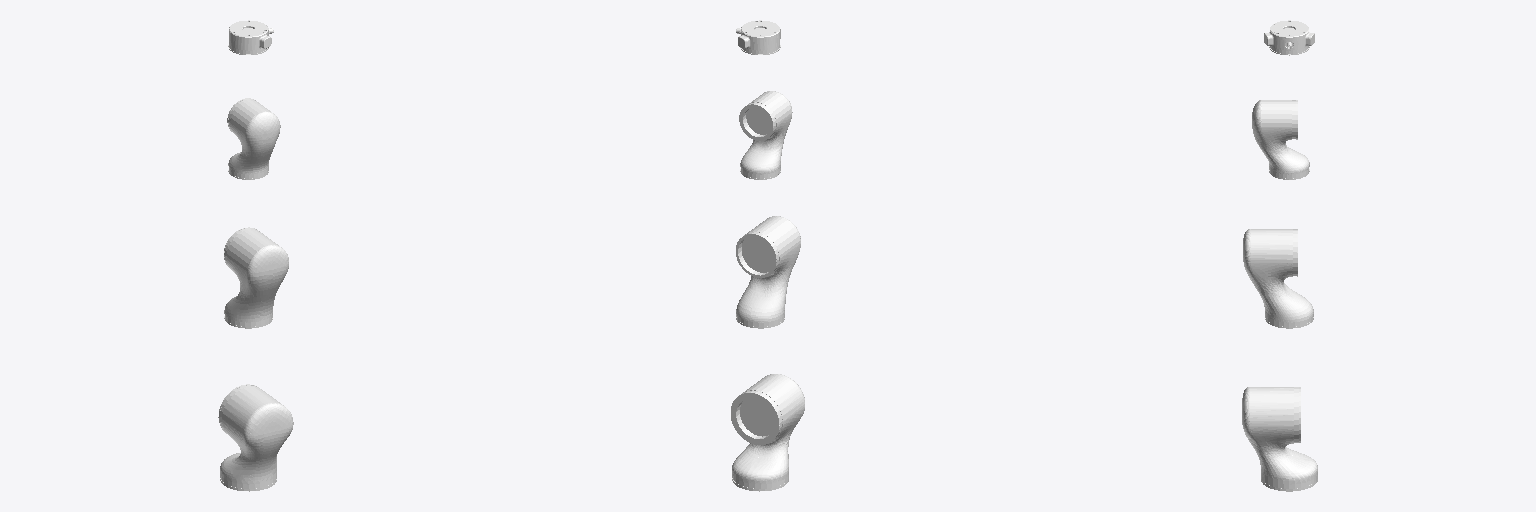
URDF robot description (rm_75_description):
<?xml version="1.0" encoding="utf-8"?>
<robot
  name="rm_75_description">
  <link
    name="base_link">
    <inertial>
      <origin
        xyz="0.000433268851866144 3.54527840972405E-05 0.0599427623574736"
        rpy="0 0 0" />
      <mass
        value="0.841071174772543" />
      <inertia
        ixx="0.00172611149818605"
        ixy="2.52724703312125E-06"
        ixz="3.67689528877993E-05"
        iyy="0.00170987425756066"
        iyz="-1.68009023667311E-06"
        izz="0.000904023916742301" />
    </inertial>
    <visual>
      <origin
        xyz="0 0 0"
        rpy="0 0 0" />
      <geometry>
        <mesh
          filename="package://rm_description/meshes/RM75/base_link.STL" />
      </geometry>
      <material
        name="">
        <color
          rgba="1 1 1 1" />
      </material>
    </visual>
    <collision>
      <origin
        xyz="0 0 0"
        rpy="0 0 0" />
      <geometry>
        <mesh
          filename="package://rm_description/meshes/RM75/base_link.STL" />
      </geometry>
    </collision>
  </link>
  <link
    name="Link1">
    <inertial>
      <origin
        xyz="0.0251854224372461 1.19160585601655E-08 -0.021107996993288"
        rpy="0 0 0" />
      <mass
        value="0.593563458735581" />
      <inertia
        ixx="0.000561352422092522"
        ixy="9.8019294192418E-09"
        ixz="-0.000211217278563478"
        iyy="0.00126614121202124"
        iyz="1.29510293158304E-08"
        izz="0.0011816817861243" />
    </inertial>
    <visual>
      <origin
        xyz="0 0 0"
        rpy="0 0 0" />
      <geometry>
        <mesh
          filename="package://rm_description/meshes/RM75/link1.STL" />
      </geometry>
      <material
        name="">
        <color
          rgba="1 1 1 1" />
      </material>
    </visual>
    <collision>
      <origin
        xyz="0 0 0"
        rpy="0 0 0" />
      <geometry>
        <mesh
          filename="package://rm_description/meshes/RM75/link1.STL" />
      </geometry>
    </collision>
  </link>
  <joint
    name="joint1"
    type="revolute">
    <origin
      xyz="0 0 0.2405"
      rpy="-1.5708 0 0" />
    <parent
      link="base_link" />
    <child
      link="Link1" />
    <axis
      xyz="0 -1 0" />
    <limit
      lower="-3.1"
      upper="3.1"
      effort="60"
      velocity="3.14" />
  </joint>
  <link
    name="Link2">
    <inertial>
      <origin
        xyz="2.72859133252335E-07 0.011077753037361 0.0761295106490881"
        rpy="0 0 0" />
      <mass
        value="0.432849770310974" />
      <inertia
        ixx="0.00125838173873093"
        ixy="5.63146579602116E-09"
        ixz="1.33486683063366E-09"
        iyy="0.00122245448121472"
        iyz="0.000279003475762058"
        izz="0.000317474184276672" />
    </inertial>
    <visual>
      <origin
        xyz="0 0 0"
        rpy="0 0 0" />
      <geometry>
        <mesh
          filename="package://rm_description/meshes/RM75/link2.STL" />
      </geometry>
      <material
        name="">
        <color
          rgba="1 1 1 1" />
      </material>
    </visual>
    <collision>
      <origin
        xyz="0 0 0"
        rpy="0 0 0" />
      <geometry>
        <mesh
          filename="package://rm_description/meshes/RM75/link2.STL" />
      </geometry>
    </collision>
  </link>
  <joint
    name="joint2"
    type="revolute">
    <origin
      xyz="0 0 0"
      rpy="1.5708 0 0" />
    <parent
      link="Link1" />
    <child
      link="Link2" />
    <axis
      xyz="0 1 0" />
    <limit
      lower="-2.268"
      upper="2.268"
      effort="60"
      velocity="3.14" />
  </joint>
  <link
    name="Link3">
    <inertial>
      <origin
        xyz="6.84676164566044E-07 0.0273475408308154 -0.0235440119707943"
        rpy="0 0 0" />
      <mass
        value="0.431325495678459" />
      <inertia
        ixx="0.000794332771462568"
        ixy="1.03353218375171E-08"
        ixz="-2.32798826854953E-09"
        iyy="0.000315065343266245"
        iyz="-0.000142620540462618"
        izz="0.000730371131605455" />
    </inertial>
    <visual>
      <origin
        xyz="0 0 0"
        rpy="0 0 0" />
      <geometry>
        <mesh
          filename="package://rm_description/meshes/RM75/link3.STL" />
      </geometry>
      <material
        name="">
        <color
          rgba="1 1 1 1" />
      </material>
    </visual>
    <collision>
      <origin
        xyz="0 0 0"
        rpy="0 0 0" />
      <geometry>
        <mesh
          filename="package://rm_description/meshes/RM75/link3.STL" />
      </geometry>
    </collision>
  </link>
  <joint
    name="joint3"
    type="revolute">
    <origin
      xyz="0 0 0.256"
      rpy="-1.5708 0 0" />
    <parent
      link="Link2" />
    <child
      link="Link3" />
    <axis
      xyz="0 -1 0" />
    <limit
      lower="-3.1"
      upper="3.1"
      effort="30"
      velocity="3.92" />
  </joint>
  <link
    name="Link4">
    <inertial>
      <origin
        xyz="5.05312670298932E-06 0.0105690692118619 0.0595925663703773"
        rpy="0 0 0" />
      <mass
        value="0.289633681619295" />
      <inertia
        ixx="0.000637371004484591"
        ixy="-3.86643270900744E-08"
        ixz="7.05261290886955E-08"
        iyy="0.000614178164759844"
        iyz="0.000144610359942128"
        izz="0.000156483880946498" />
    </inertial>
    <visual>
      <origin
        xyz="0 0 0"
        rpy="0 0 0" />
      <geometry>
        <mesh
          filename="package://rm_description/meshes/RM75/link4.STL" />
      </geometry>
      <material
        name="">
        <color
          rgba="1 1 1 1" />
      </material>
    </visual>
    <collision>
      <origin
        xyz="0 0 0"
        rpy="0 0 0" />
      <geometry>
        <mesh
          filename="package://rm_description/meshes/RM75/link4.STL" />
      </geometry>
    </collision>
  </link>
  <joint
    name="joint4"
    type="revolute">
    <origin
      xyz="0 0 0"
      rpy="1.5708 0 0" />
    <parent
      link="Link3" />
    <child
      link="Link4" />
    <axis
      xyz="0 1 0" />
    <limit
      lower="-2.355"
      upper="2.355"
      effort="30"
      velocity="3.92" />
  </joint>
  <link
    name="Link5">
    <inertial>
      <origin
        xyz="1.1551661767744E-06 0.0215394748352686 -0.0180424468598241"
        rpy="0 0 0" />
      <mass
        value="0.239419768320061" />
      <inertia
        ixx="0.000285938919722783"
        ixy="2.21994116852616E-09"
        ixz="3.07101358617598E-09"
        iyy="0.00011988808279186"
        iyz="-4.4236583260078E-05"
        izz="0.000262727540304212" />
    </inertial>
    <visual>
      <origin
        xyz="0 0 0"
        rpy="0 0 0" />
      <geometry>
        <mesh
          filename="package://rm_description/meshes/RM75/link5.STL" />
      </geometry>
      <material
        name="">
        <color
          rgba="1 1 1 1" />
      </material>
    </visual>
    <collision>
      <origin
        xyz="0 0 0"
        rpy="0 0 0" />
      <geometry>
        <mesh
          filename="package://rm_description/meshes/RM75/link5.STL" />
      </geometry>
    </collision>
  </link>
  <joint
    name="joint5"
    type="revolute">
    <origin
      xyz="0 0 0.21"
      rpy="-1.5708 0 0" />
    <parent
      link="Link4" />
    <child
      link="Link5" />
    <axis
      xyz="0 -1 0" />
    <limit
      lower="-3.1"
      upper="3.1"
      effort="10"
      velocity="3.92" />
  </joint>
  <link
    name="Link6">
    <inertial>
      <origin
        xyz="3.19794787018954E-06 0.00736804250989373 0.0593808368101291"
        rpy="0 0 0" />
      <mass
        value="0.218799761431682" />
      <inertia
        ixx="0.000350540363914436"
        ixy="-1.7705645712277E-08"
        ixz="3.41781620449632E-08"
        iyy="0.000334482418423991"
        iyz="7.82431228462317E-05"
        izz="0.000104927867487584" />
    </inertial>
    <visual>
      <origin
        xyz="0 0 0"
        rpy="0 0 0" />
      <geometry>
        <mesh
          filename="package://rm_description/meshes/RM75/link6.STL" />
      </geometry>
      <material
        name="">
        <color
          rgba="1 1 1 1" />
      </material>
    </visual>
    <collision>
      <origin
        xyz="0 0 0"
        rpy="0 0 0" />
      <geometry>
        <mesh
          filename="package://rm_description/meshes/RM75/link6.STL" />
      </geometry>
    </collision>
  </link>
  <joint
    name="joint6"
    type="revolute">
    <origin
      xyz="0 0 0"
      rpy="1.5708 0 0" />
    <parent
      link="Link5" />
    <child
      link="Link6" />
    <axis
      xyz="0 1 0" />
    <limit
      lower="-2.233"
      upper="2.233"
      effort="10"
      velocity="3.92" />
  </joint>
  <link
    name="Link7">
    <inertial>
      <origin
        xyz="0.000714238382876259 -0.000396711987952758 -0.0126723660946126"
        rpy="0 0 0" />
      <mass
        value="0.0649018034311231" />
      <inertia
        ixx="2.02766547502765E-05"
        ixy="-1.32505200276848E-06"
        ixz="-2.58450915224912E-08"
        iyy="1.87986725225022E-05"
        iyz="3.39471452123283E-09"
        izz="3.17885459163081E-05" />
    </inertial>
    <visual>
      <origin
        xyz="0 0 0"
        rpy="0 0 0" />
      <geometry>
        <mesh
          filename="package://rm_description/meshes/RM75/link7.STL" />
      </geometry>
      <material
        name="">
        <color
          rgba="1 1 1 1" />
      </material>
    </visual>
    <collision>
      <origin
        xyz="0 0 0"
        rpy="0 0 0" />
      <geometry>
        <mesh
          filename="package://rm_description/meshes/RM75/link7.STL" />
      </geometry>
    </collision>
  </link>
  <joint
    name="joint7"
    type="revolute">
    <origin
      xyz="0 0 0.144"
      rpy="0 0 0" />
    <parent
      link="Link6" />
    <child
      link="Link7" />
    <axis
      xyz="0 0 1" />
    <limit
      lower="-6.28"
      upper="6.28"
      effort="10"
      velocity="3.92" />
  </joint>
</robot>

--- What the picture shows (computed from the rendered views, not written in the file) ---
Views: 3 orthographic renders of the robot side by side, from view 1: azimuth 30°, elevation 25°; view 2: azimuth 150°, elevation 25°; view 3: azimuth 270°, elevation 25°.
Robot: rm_75_description — 8 links, 7 joints (7 revolute); root link base_link; default pose: all joints at 0.
Links seen in each view (by area): view 1: Link1, Link3, Link5, Link7; view 2: Link1, Link3, Link5, Link7; view 3: Link1, Link3, Link5, Link7.
Link boxes in pixels (<box>): Link1: <box>218,384,293,491</box>; Link3: <box>224,227,288,328</box>; Link5: <box>227,98,280,179</box>; Link7: <box>228,20,273,54</box>; Link1: <box>731,374,804,491</box>; Link3: <box>736,216,800,328</box>; Link5: <box>739,91,792,179</box>; Link7: <box>736,20,780,54</box>; Link1: <box>1242,387,1317,491</box>; Link3: <box>1243,229,1313,328</box>; Link5: <box>1252,100,1309,179</box>; Link7: <box>1264,20,1314,55</box>.
Size in the robot's own frame: 0.082 by 0.109 by 0.712 metres.
4 mesh visuals loaded from 8 distinct referenced files (4 binary STL); not drawn: 4 (reference not matched to a file when rendering).
